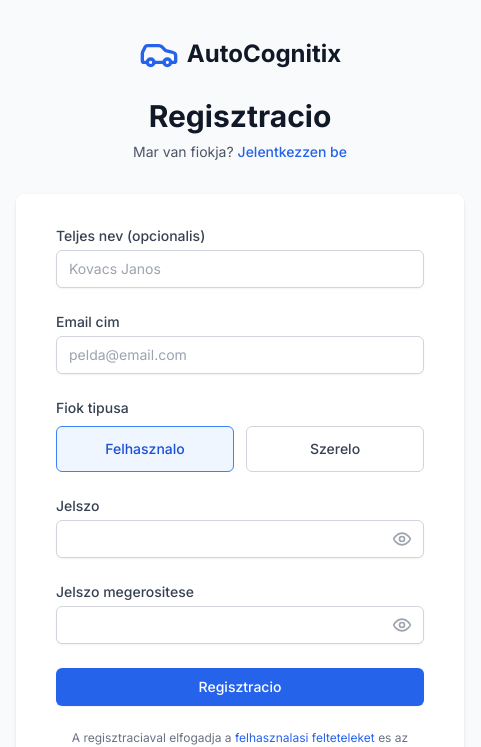
Test: RegisterPage › should show validation error when password is empty on submit
This screenshot has width=481, height=747.
Type "test@example.com" into the field labelled "Email cim".
click(240, 355); type("test@example.com")  # box x1=56 y1=336 x2=424 y2=374
(page scrolled)
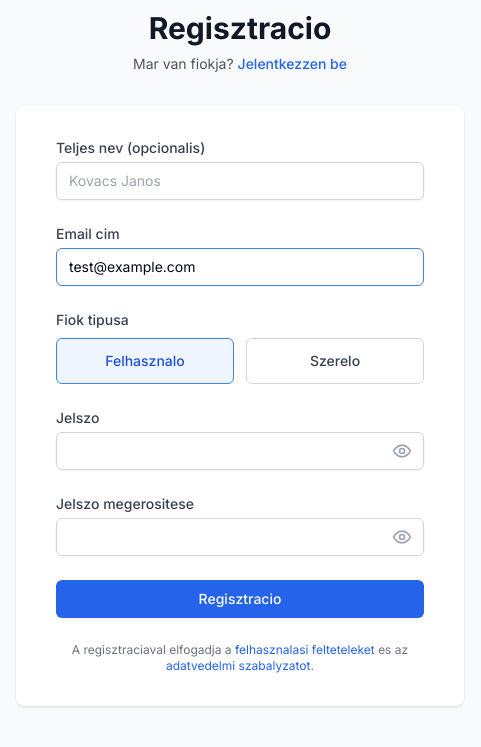
Use fireEvent.submit to bypass browser-level required validation
Submit the form named "regisztracio", box x1=56 y1=138 x2=424 y2=674
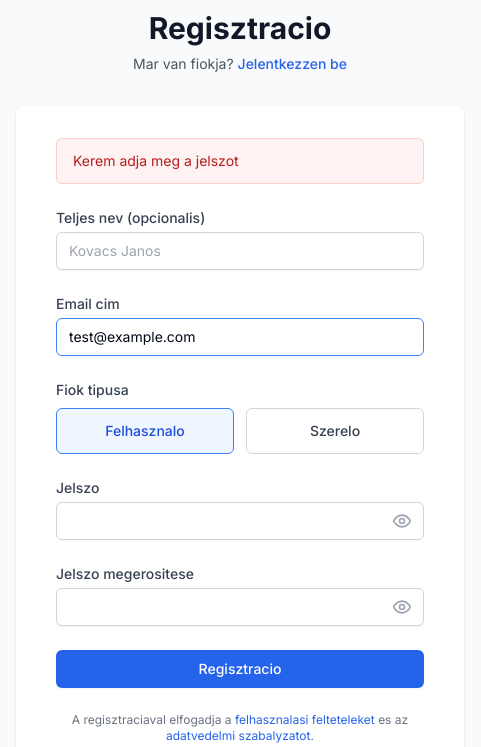
Check: the text "Kerem adja meg a jelszot" is shown, box x1=56 y1=138 x2=424 y2=184
